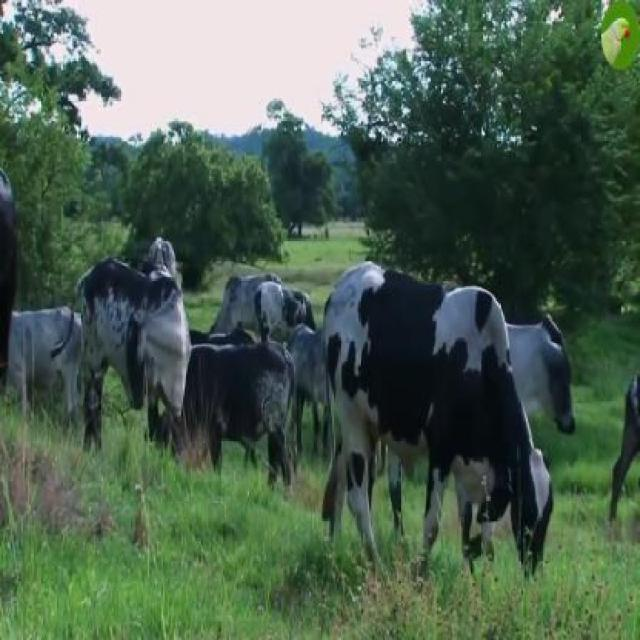Cow: (328, 264, 554, 582)
